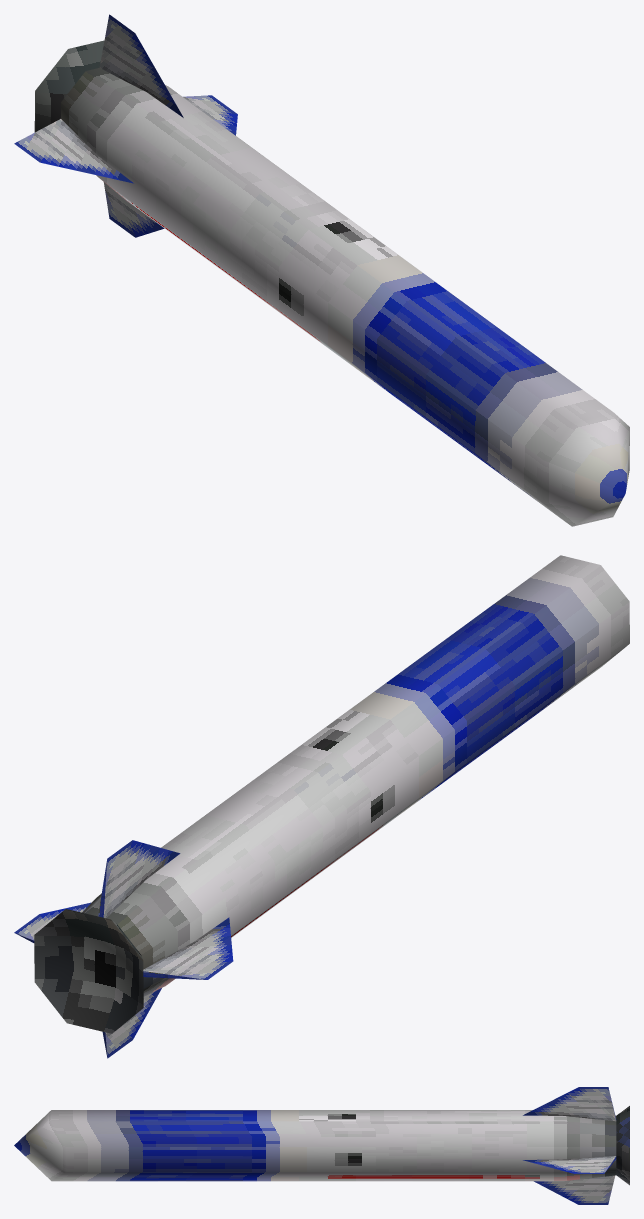
The model's file is wpn_missile_space_s03_l2.fbx.
3 renders of one model, top to bottom at view 1: azimuth 30°, elevation 25°; view 2: azimuth 150°, elevation 25°; view 3: azimuth 270°, elevation 25°, orthographic. The views are drawn at different scales.
Parts seen in each view (by area): view 1: mesh_node; view 2: mesh_node; view 3: mesh_node.
Boxes of the visible parts, x1,y1,x2,y2 form: mesh_node: (14, 14, 629, 526); mesh_node: (14, 555, 629, 1058); mesh_node: (14, 1087, 629, 1204).
Bounding box in the file's own units: 0.4267 × 0.4211 × 2.
Materials: 1 (1 with a texture image).
